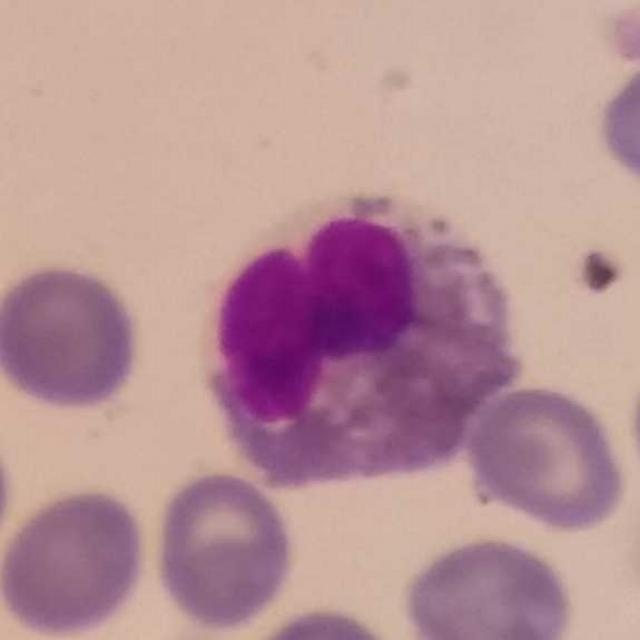Eosinophil: (206, 188, 530, 494)
Platelets: (573, 242, 628, 300)
RBC: (462, 378, 632, 536), (147, 466, 300, 634), (1, 483, 151, 640), (0, 257, 148, 414), (398, 531, 579, 639), (591, 34, 640, 202), (229, 602, 413, 640), (587, 0, 640, 68)
